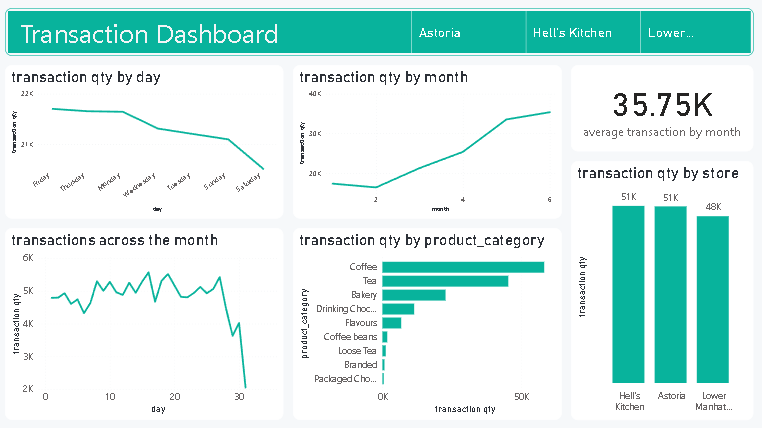

The dashboard page shown, as its layout file describes it:
{"tool":"powerbi","page":{"name":"Transaction_Dashboard","canvas":[1280,720],"ordinal":1},"visuals":[{"type":"shape","box":[16,16,1248,80],"z":0},{"type":"advancedSlicerVisual","fields":{"Values":["tc.store_location"]},"box":[688,16,576,80],"z":1000},{"type":"lineChart","fields":{"Category":["calender.month"],"Y":["CountNonNull(tc.transaction_qty)"]},"box":[496,112,448,256],"z":2000},{"type":"barChart","fields":{"Y":["CountNonNull(tc.transaction_qty)"],"Category":["tc.product_category"]},"box":[496,384,448,320],"z":3000},{"type":"lineChart","title":"transactions across the month","fields":{"Category":["calender.day"],"Y":["CountNonNull(tc.transaction_qty)"]},"box":[16,384,464,320],"z":4000},{"type":"lineChart","fields":{"Category":["calender.day_name"],"Y":["tc.Count of transaction_qty"]},"box":[16,112,464,256],"z":5000},{"type":"clusteredColumnChart","title":"transaction qty by store ","fields":{"Y":["tc.Count of transaction_qty"],"Category":["tc.store_location"]},"box":[960,272,304,432],"z":6000},{"type":"card","fields":{"Values":["tc.avg_TC"]},"box":[960,112,304,144],"z":7000}]}

Visuals, with their boxes in screenshot pixels (x1, y1, x2, y2), scaled from the page's 1280x720 canvas onto the 762x428 screenshot:
shape: <region>10, 10, 752, 57</region>
advancedSlicerVisual - tc.store_location: <region>410, 10, 752, 57</region>
lineChart - calender.month x CountNonNull(tc.transaction_qty): <region>295, 67, 562, 219</region>
barChart - CountNonNull(tc.transaction_qty) x tc.product_category: <region>295, 228, 562, 418</region>
"transactions across the month" lineChart: <region>10, 228, 286, 418</region>
lineChart - calender.day_name x tc.Count of transaction_qty: <region>10, 67, 286, 219</region>
"transaction qty by store " clusteredColumnChart: <region>572, 162, 752, 418</region>
card - tc.avg_TC: <region>572, 67, 752, 152</region>
